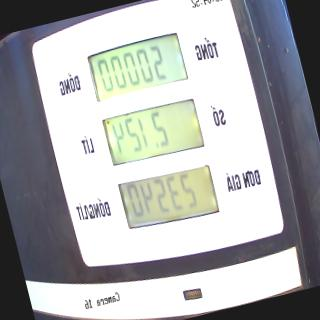screen: (82, 28, 224, 236)
